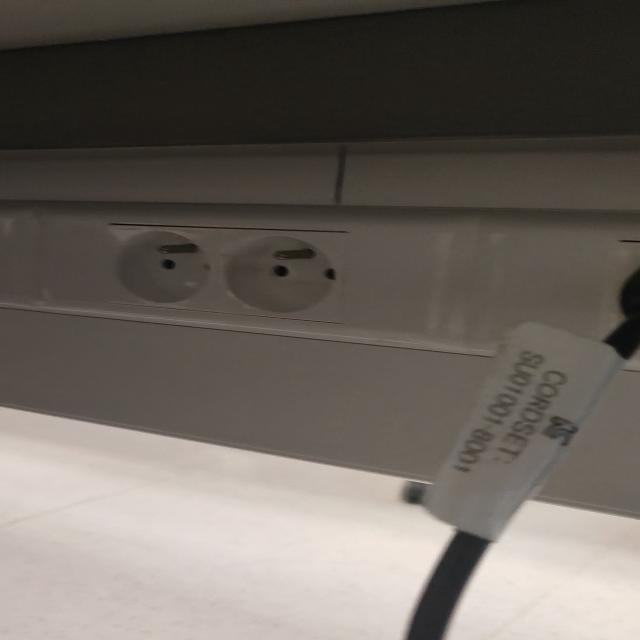house plug: (219, 226, 353, 325), (105, 223, 219, 314)
